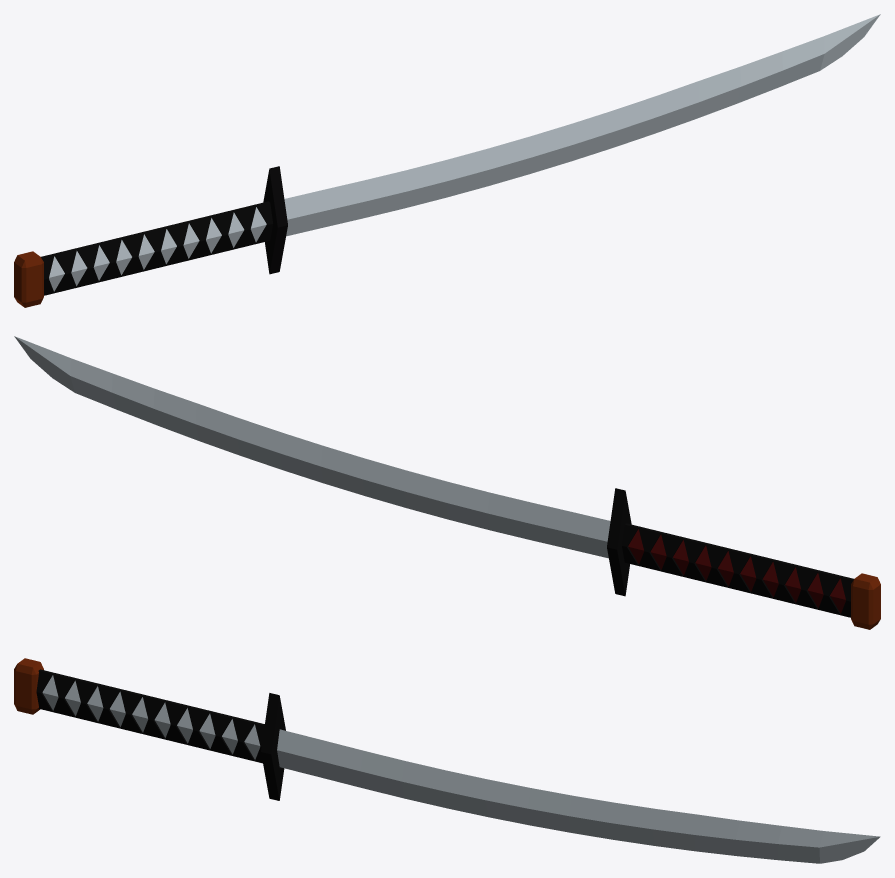
The model's file is katana.obj.
3 views of the same model, one above another, from view 1: azimuth 30°, elevation 25°; view 2: azimuth 150°, elevation 25°; view 3: azimuth 330°, elevation 25° (orthographic).
Visible parts, largest first — view 1: Cube, Cube.001, Cube.002; view 2: Cube, Cube.001, Cube.002; view 3: Cube, Cube.001, Cube.002.
Part boxes in pixels (<box>): Cube: <box>49,14,880,291</box>; Cube.001: <box>41,201,272,295</box>; Cube.002: <box>14,251,43,307</box>; Cube: <box>14,336,845,613</box>; Cube.001: <box>622,523,853,617</box>; Cube.002: <box>851,573,880,629</box>; Cube: <box>42,675,880,863</box>; Cube.001: <box>36,669,264,763</box>; Cube.002: <box>14,658,43,714</box>.
Size of the model in its own units: 36.09 by 4.44 by 1.22.
